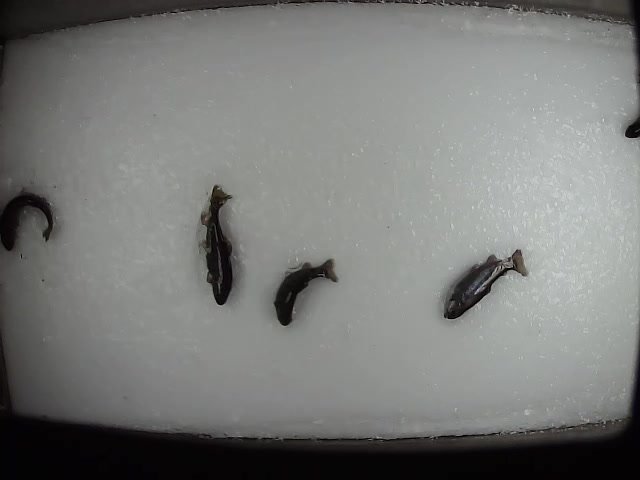fish: (441, 248, 529, 321), (269, 255, 340, 328), (198, 183, 240, 306), (1, 184, 56, 251)
